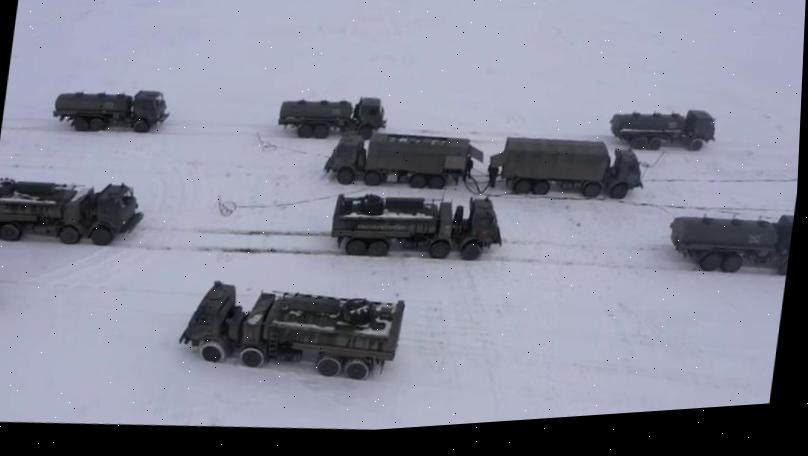person: (483, 162, 501, 190), (464, 153, 476, 182)
truck: (172, 265, 410, 396), (325, 181, 510, 273), (484, 125, 650, 211), (320, 122, 488, 202), (0, 168, 148, 257), (663, 203, 795, 284), (49, 80, 174, 143), (275, 88, 390, 148), (606, 99, 719, 159), (0, 238, 1, 295)
